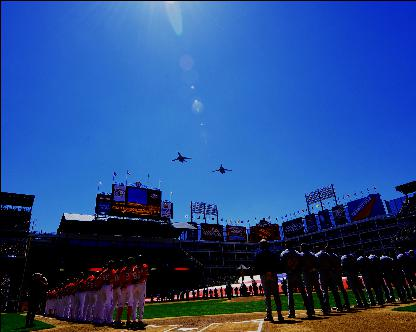AV8B: (170, 150, 192, 162), (212, 163, 232, 173)
